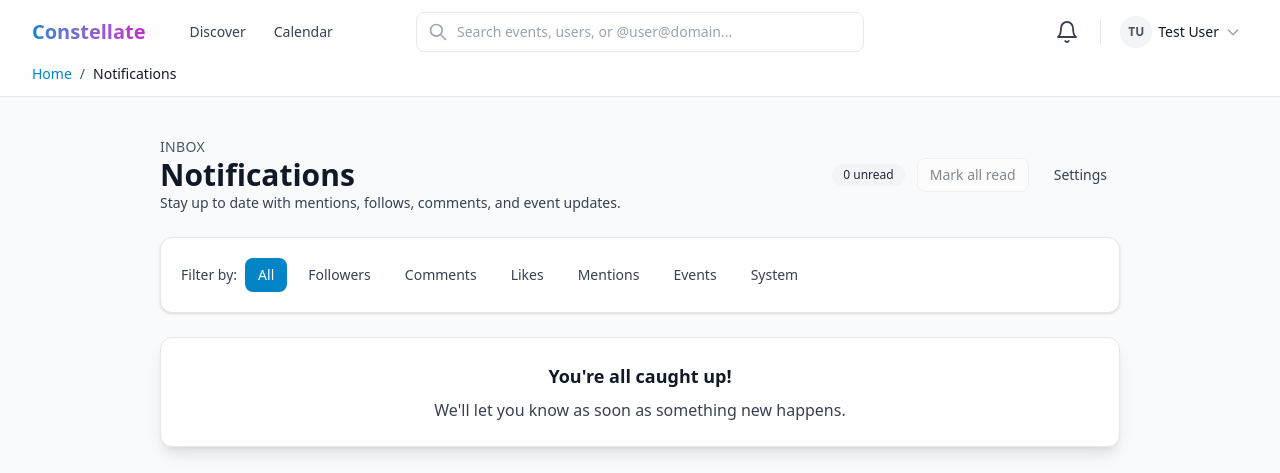
Test case: NotificationsPage › should show settings toggle
Click the button "Settings" at [1080, 175], box x1=1041 y1=158 x2=1120 y2=192
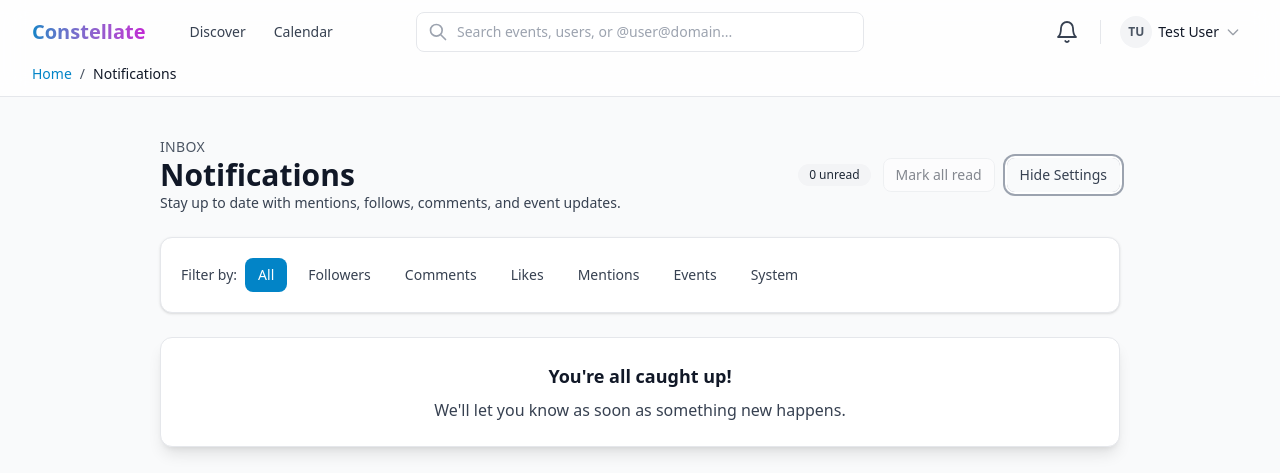
Expected: the button "Hide Settings" is shown, x1=1007 y1=158 x2=1120 y2=192
